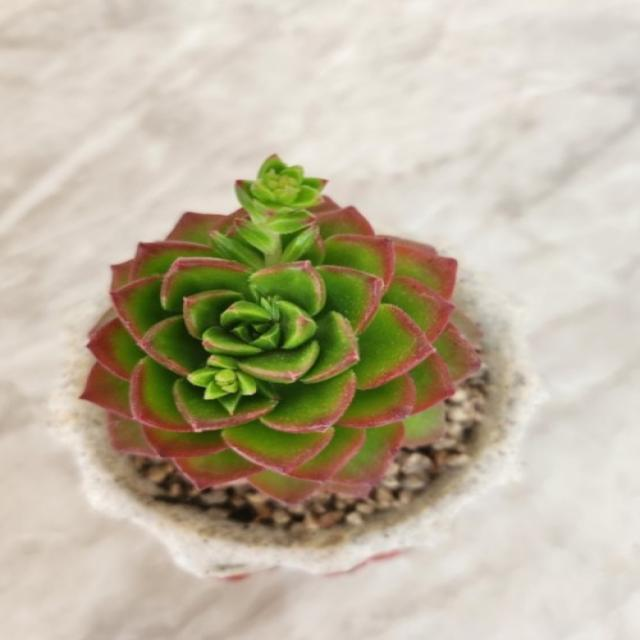Letizia: (82, 155, 480, 502)
